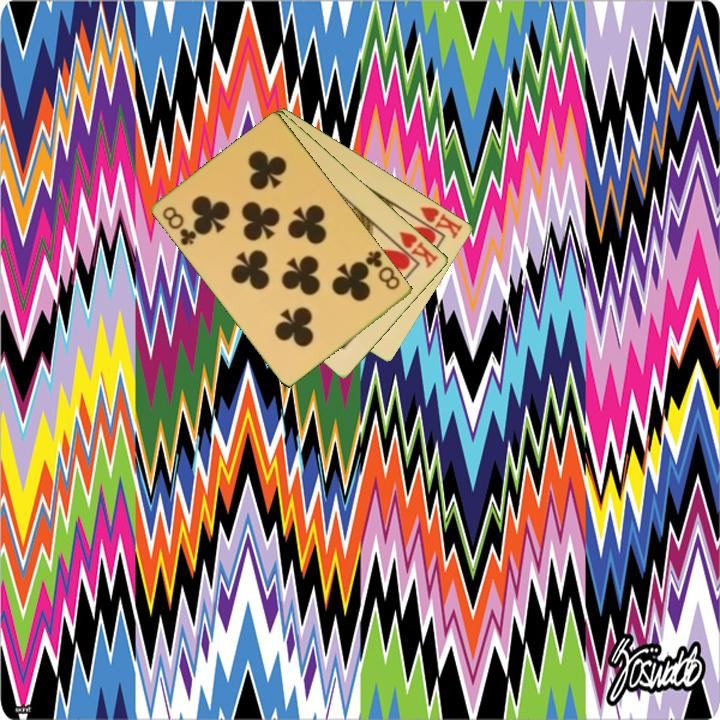8c: (359, 247, 403, 293), (159, 203, 200, 248)
Kh: (388, 228, 441, 271), (409, 203, 466, 242)
